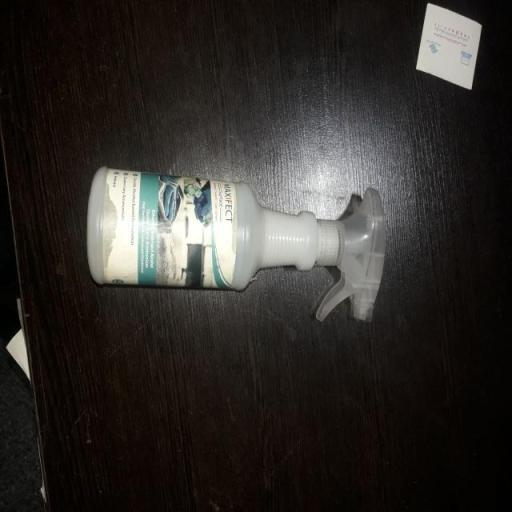plastic: (86, 163, 388, 329)
